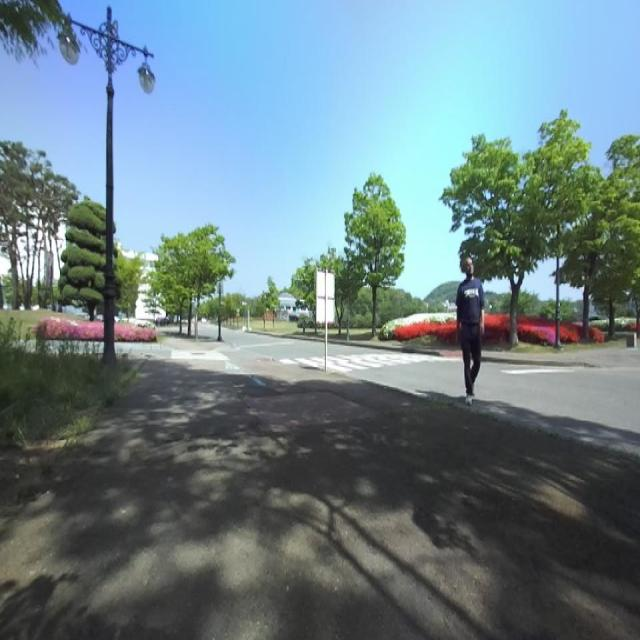sidewalk: (0, 361, 640, 639)
